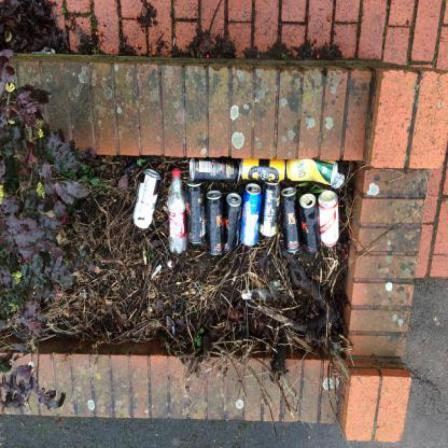Bottle: (169, 168, 188, 255)
Bottle cap: (173, 169, 182, 175)
Can: (134, 169, 162, 229), (190, 156, 241, 184), (288, 159, 339, 187), (281, 189, 303, 253), (241, 184, 263, 246), (186, 180, 206, 246), (300, 194, 321, 256), (206, 191, 225, 256), (260, 182, 282, 238), (320, 192, 340, 248), (224, 195, 243, 253), (242, 159, 287, 183)
Pop tab: (304, 196, 311, 204), (288, 190, 294, 194), (253, 188, 259, 192), (233, 199, 237, 204), (213, 194, 218, 197)
Unlabeled litter: (333, 173, 345, 189), (270, 282, 281, 299), (256, 292, 272, 302), (153, 266, 163, 282), (243, 295, 254, 302), (174, 38, 177, 48)
